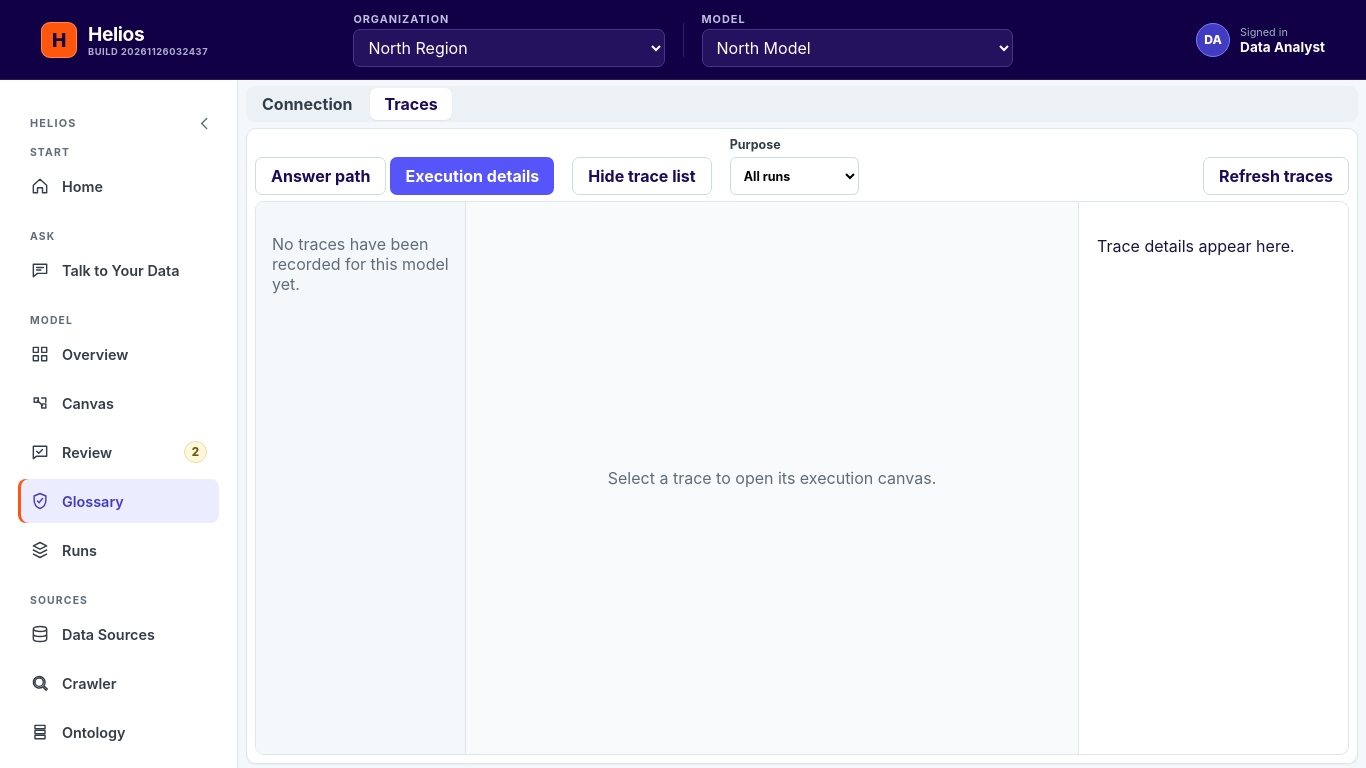
Scenario: Helios application shell › opens the MCP trace workspace and renders its empty state
Expected: the text "No traces have been recorded for this model yet." is shown, [272,234,449,294]
Click the button "Answer path". click: click(321, 176)
box: [255,157,386,195]
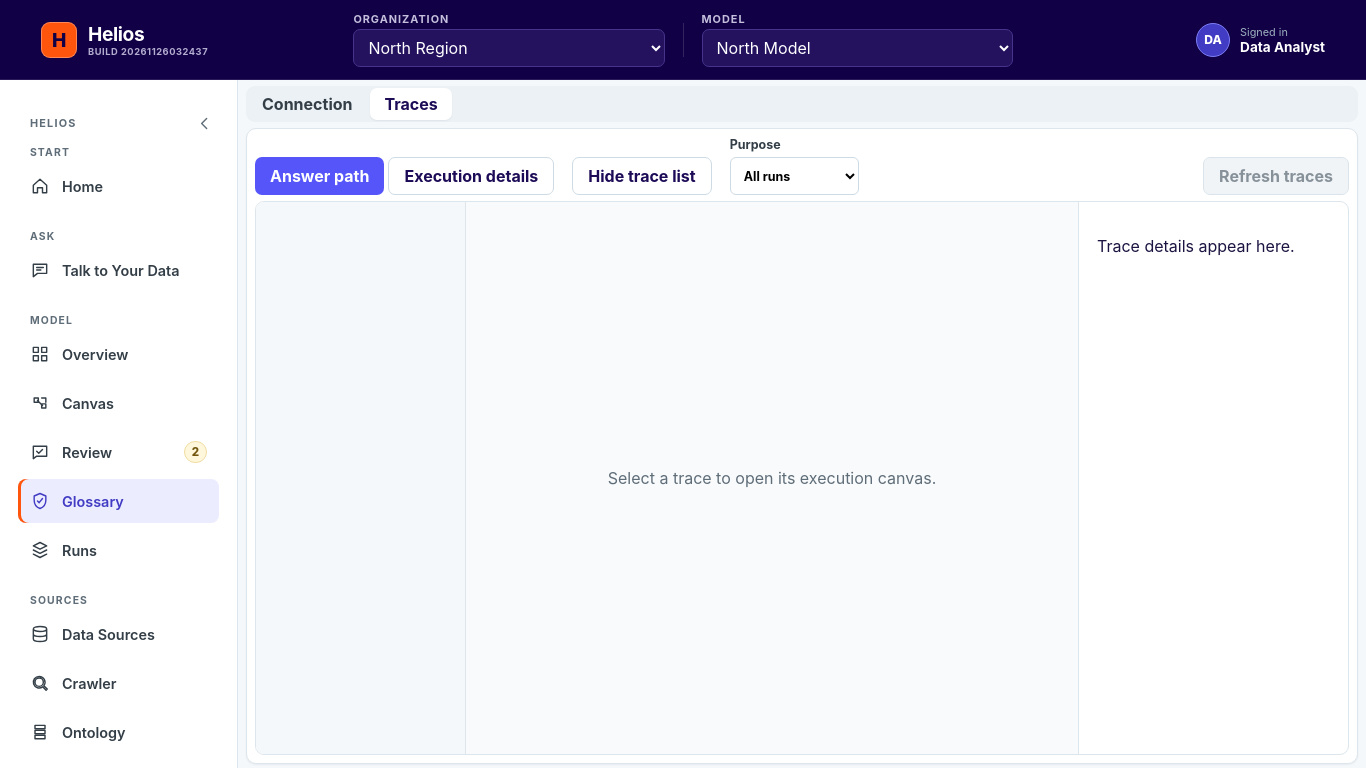
Expected: the button "Answer path" is pressed, [255,157,384,195]
Click the button "Hide trace list". click: click(642, 176)
box: [572,157,712,195]
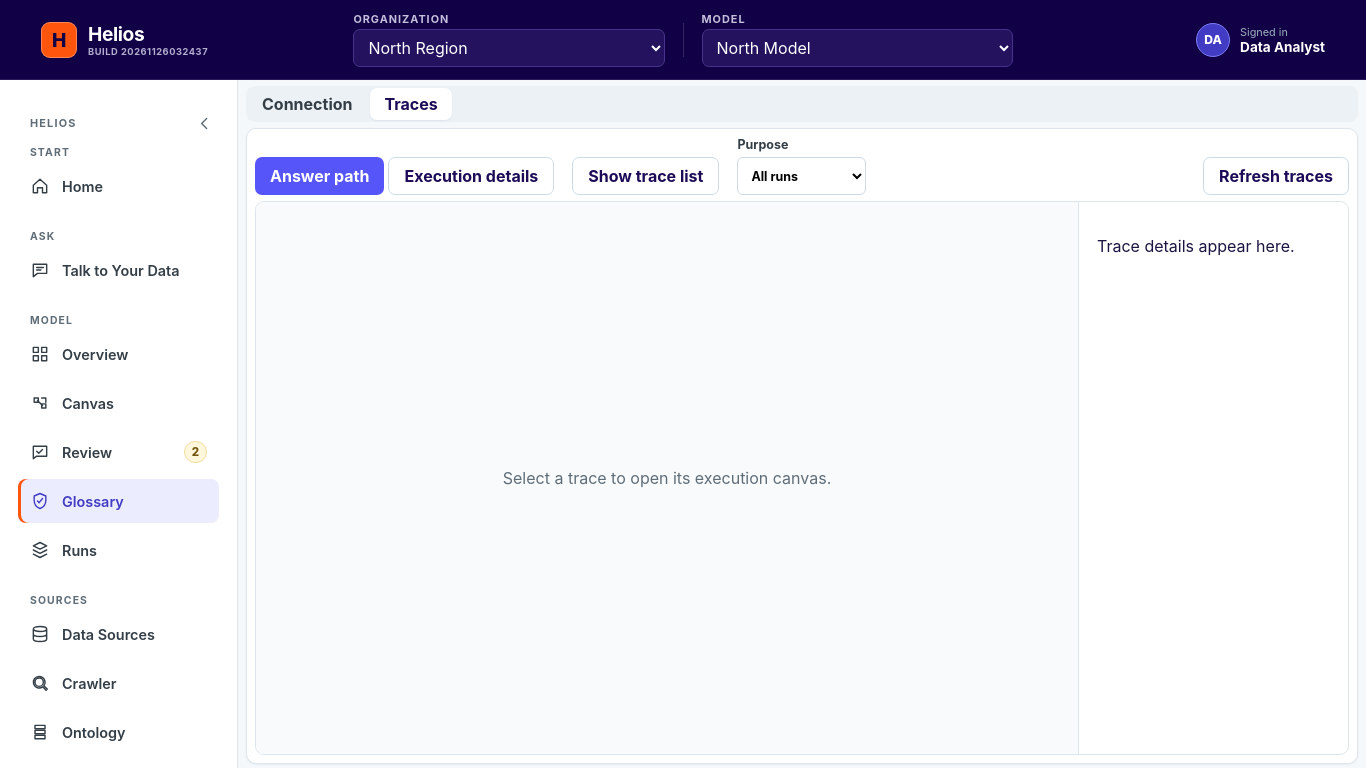
Expected: the button "Show trace list" is collapsed, [572,157,719,195]
